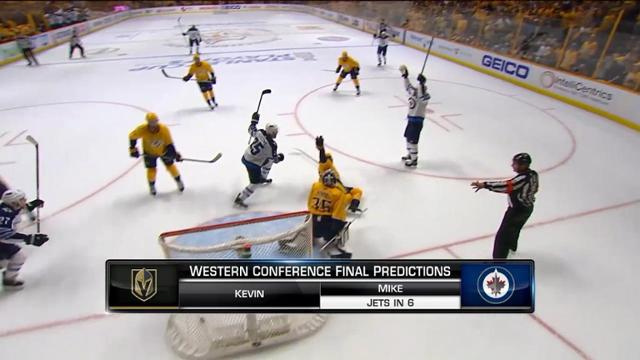geico: (478, 49, 529, 85)
